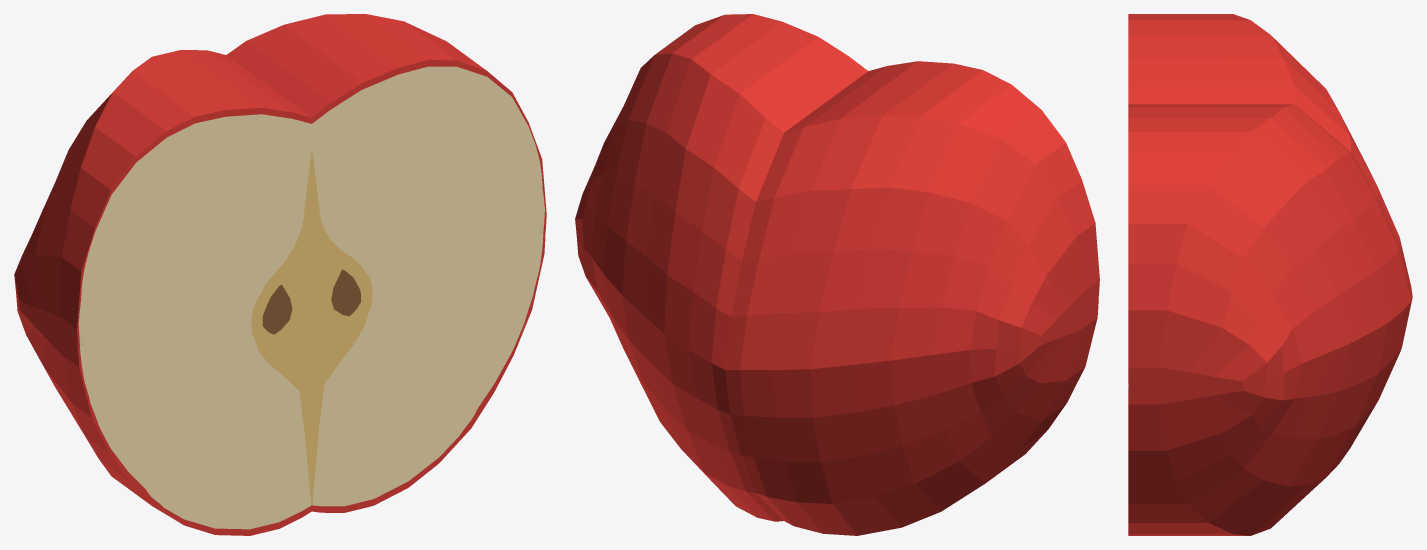
The model's file is apple.fbx.
3 views of the same model, side by side, from view 1: azimuth 30°, elevation 25°; view 2: azimuth 150°, elevation 25°; view 3: azimuth 270°, elevation 25° (orthographic). The views are drawn at different scales.
Visible parts, largest first — view 1: Plane; view 2: Plane; view 3: Plane.
Boxes of the visible parts, x1,y1,x2,y2 form: Plane: [14, 14, 546, 535]; Plane: [575, 14, 1099, 535]; Plane: [1128, 14, 1412, 535].
Size of the model in its own units: 381 by 335 by 204.
